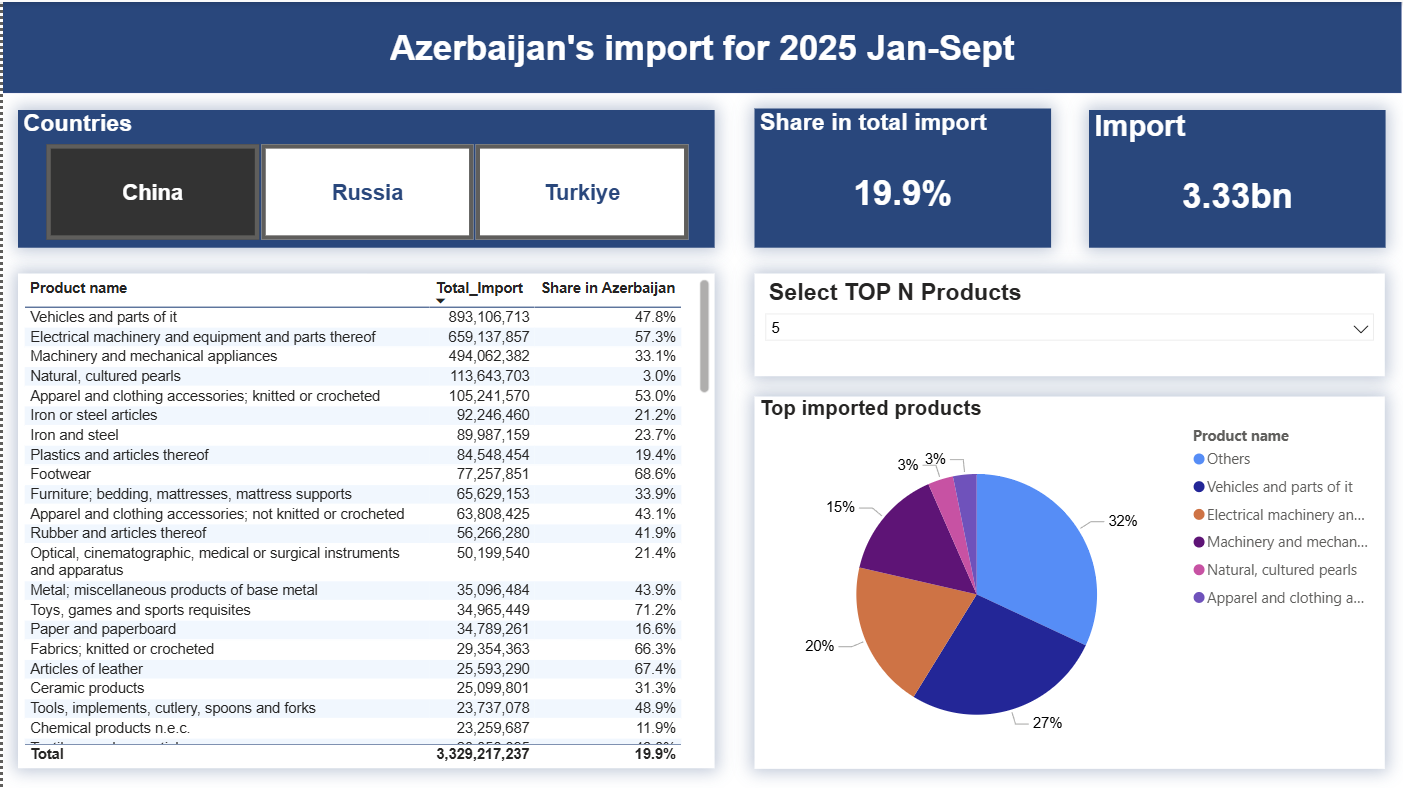

The page's visual inventory and layout, read from the dashboard file:
{"tool":"powerbi","page":{"name":"REPORT","canvas":[1280,720],"ordinal":0},"visuals":[{"type":"card","title":"Import","fields":{"Values":["Sum(Trade.Value)"]},"box":[993.3,98.4,271,125.7],"z":0},{"type":"slicer","title":"Countries","fields":{"Values":["Trade.Country"]},"box":[13.6,98.4,637.5,125.7],"z":1000},{"type":"shape","title":"Azerbaijan''","box":[0,0,1279.4,83.2],"z":2000},{"type":"pieChart","title":"Top imported products","fields":{"Y":["Measure.TOP_N"],"Category":["PRODUCTS_N.Short name"]},"box":[687.4,360.4,576.9,340.7],"z":3000},{"type":"card","title":"Share in total import","fields":{"Values":["Measure.Total Sales"]},"box":[687.4,96.9,271,127.2],"z":4000},{"type":"slicer","fields":{"Values":["TOP N.Value"]},"box":[687.4,248.3,576.9,93.9],"z":5000},{"type":"tableEx","fields":{"Values":["Products.Short name","Measure.Total_Import","Measure.Share in total"]},"box":[13.6,248.3,637.5,452.7],"z":5001}]}

Visuals, with their boxes in screenshot pixels (x1, y1, x2, y2), scaled from the page's 1280x720 canvas onto the 1403x788 screenshot:
"Import" card: bbox=(1089, 108, 1386, 245)
"Countries" slicer: bbox=(15, 108, 714, 245)
"Azerbaijan''" shape: bbox=(0, 0, 1402, 91)
"Top imported products" pieChart: bbox=(753, 394, 1386, 767)
"Share in total import" card: bbox=(753, 106, 1050, 245)
slicer - TOP N.Value: bbox=(753, 272, 1386, 375)
tableEx - Products.Short name x Measure.Total_Import: bbox=(15, 272, 714, 767)
